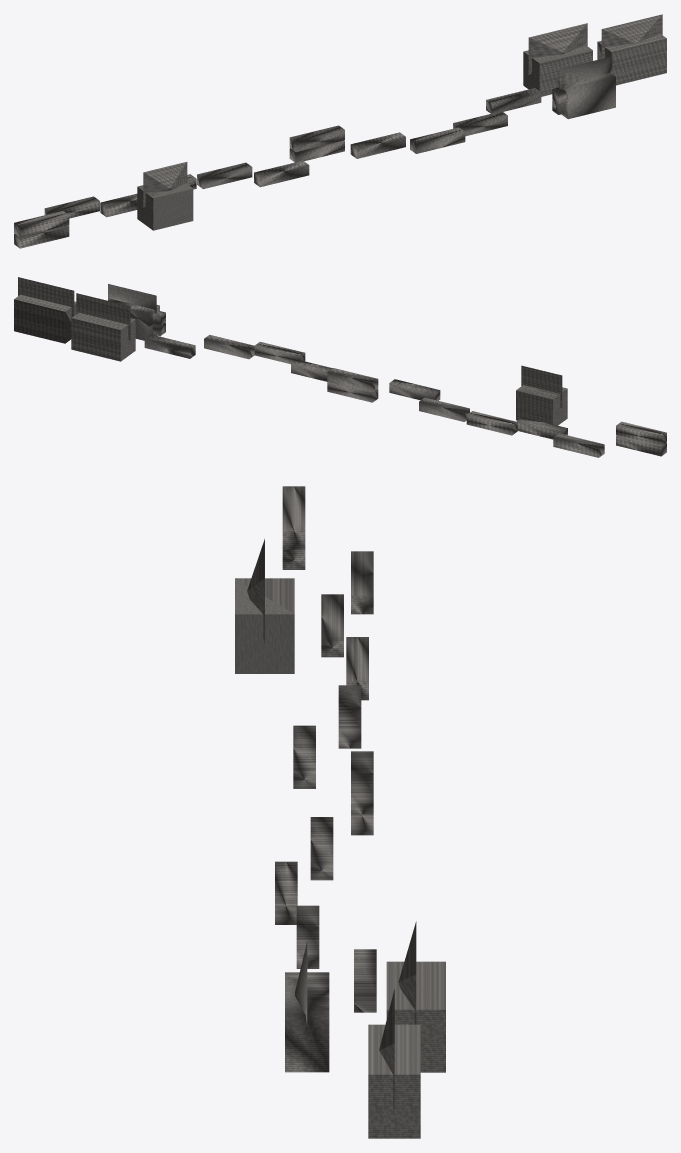
File: containers.obj
3 renders of one model, top to bottom at view 1: azimuth 30°, elevation 25°; view 2: azimuth 150°, elevation 25°; view 3: azimuth 270°, elevation 25°, orthographic. The views are drawn at different scales.
Parts seen in each view (by area): view 1: containers; view 2: containers; view 3: containers.
Boxes of the visible parts, left/top/right/bottom form: containers: left=14, top=14, right=666, bottom=248; containers: left=14, top=277, right=666, bottom=457; containers: left=235, top=486, right=445, bottom=1138.
Bounding box in the file's own units: 164 × 13.24 × 24.14.
1 material, 1 textured.
